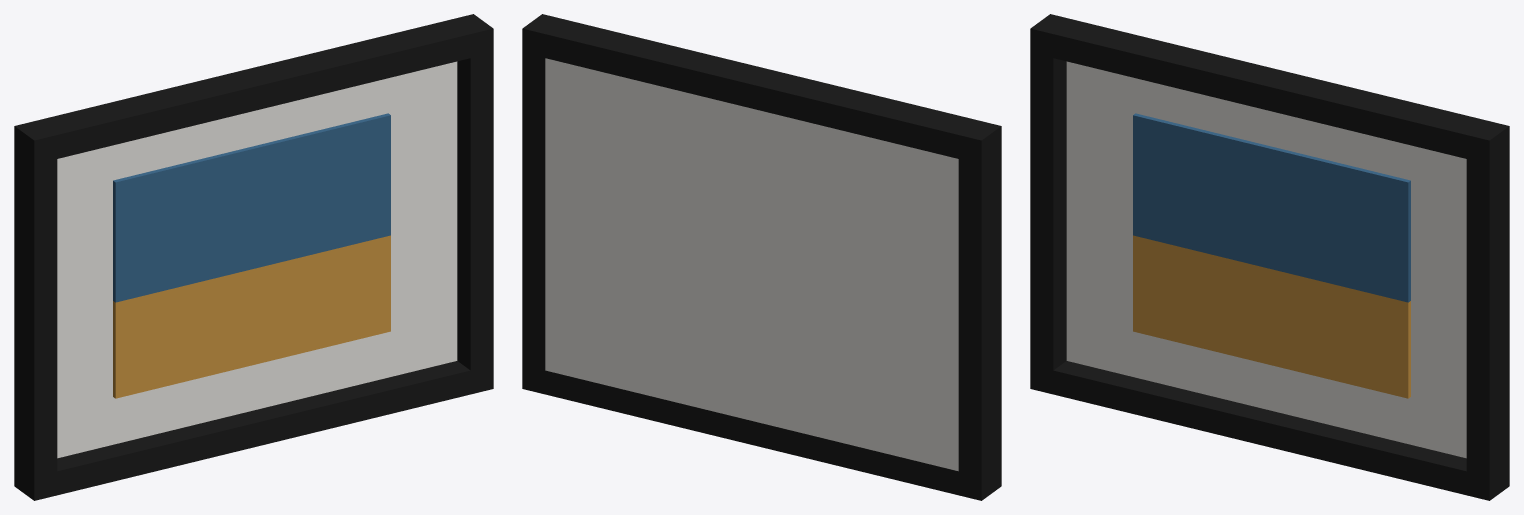
File: cuadro.glb
3 renders of one model, left to right at view 1: azimuth 30°, elevation 25°; view 2: azimuth 150°, elevation 25°; view 3: azimuth 330°, elevation 25°, orthographic.
Parts seen in each view (by area): view 1: paspartu, cielo, campo, marco-arriba, marco-abajo, marco-izq, marco-der; view 2: paspartu, marco-arriba, marco-izq, marco-abajo, marco-der; view 3: paspartu, cielo, campo, marco-arriba, marco-abajo, marco-der, marco-izq.
Boxes of the visible parts, x1,y1,x2,y2 form: paspartu: [57, 61, 457, 458]; cielo: [113, 113, 390, 302]; campo: [113, 235, 390, 398]; marco-arriba: [14, 14, 493, 164]; marco-abajo: [14, 361, 493, 500]; marco-izq: [14, 150, 57, 476]; marco-der: [457, 52, 493, 370]; paspartu: [545, 58, 958, 471]; marco-arriba: [522, 14, 1001, 164]; marco-izq: [958, 150, 1001, 476]; marco-abajo: [522, 365, 1001, 500]; marco-der: [522, 52, 545, 370]; paspartu: [1066, 61, 1466, 458]; cielo: [1133, 113, 1410, 302]; campo: [1133, 235, 1410, 398]; marco-arriba: [1030, 14, 1509, 164]; marco-abajo: [1030, 361, 1509, 500]; marco-der: [1466, 150, 1509, 476]; marco-izq: [1030, 52, 1066, 370].
Size of the model in its own units: 0.4 by 0.3 by 0.03.
